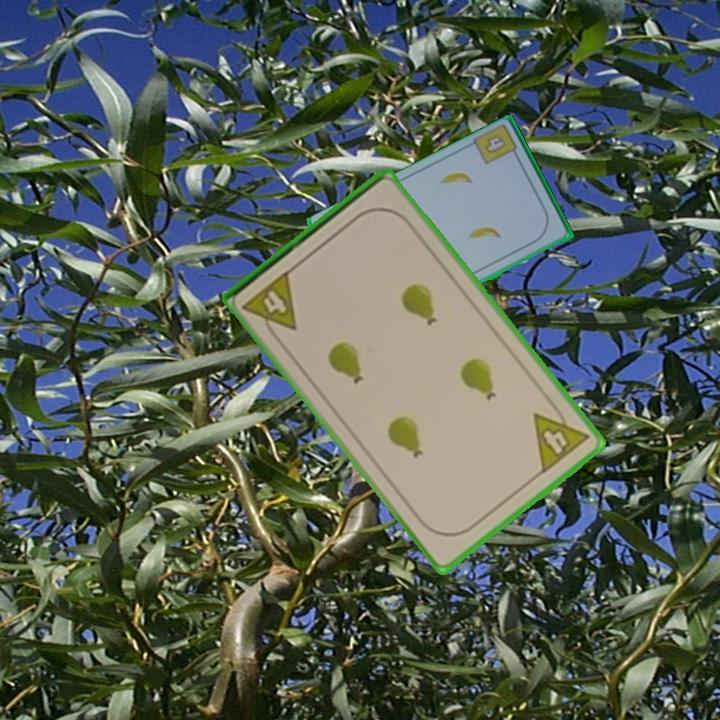4b: (470, 122, 523, 168)
4p: (530, 397, 592, 477), (239, 266, 301, 344)
